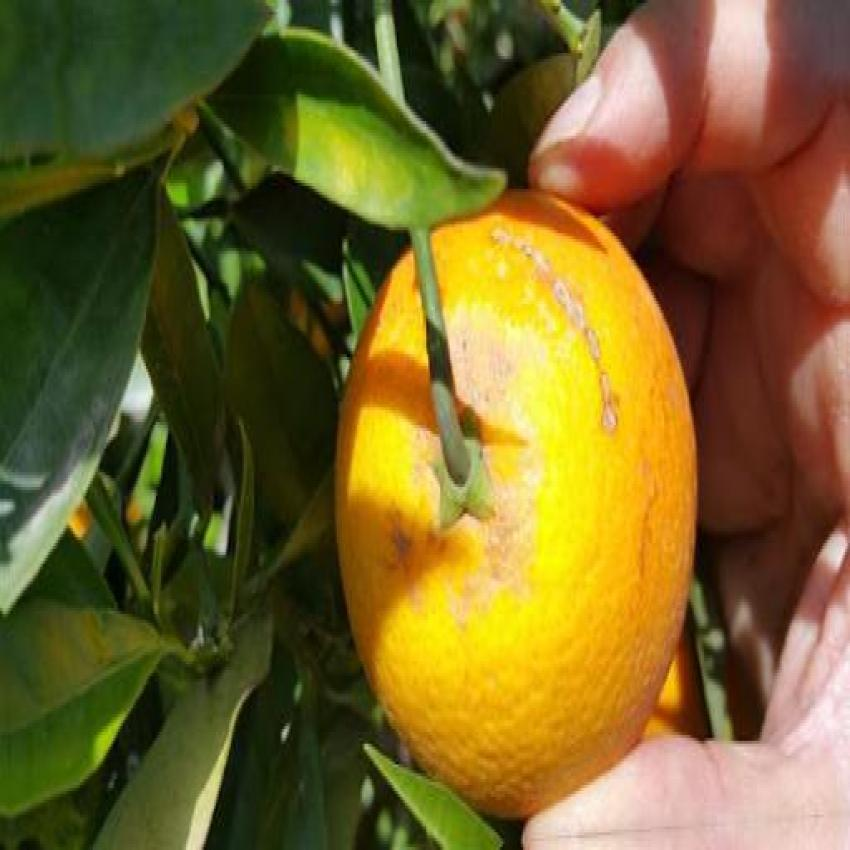Mal estado: (316, 178, 713, 814)
